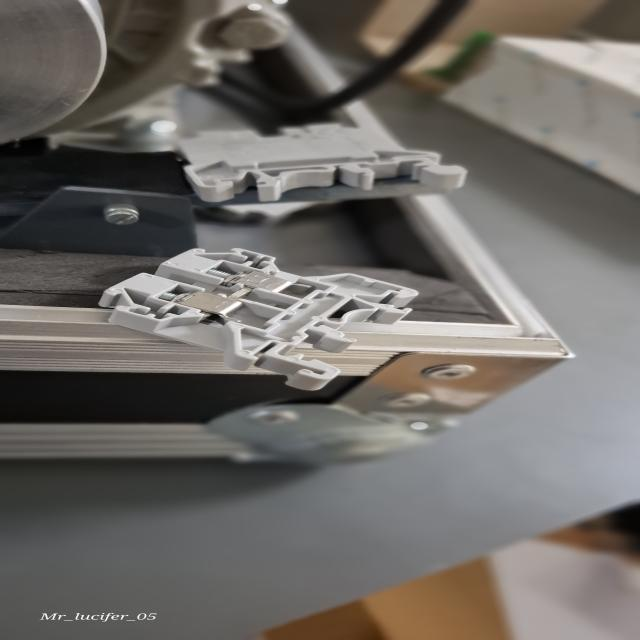Inverted: (171, 124, 472, 202)
Pass: (91, 244, 422, 392)
